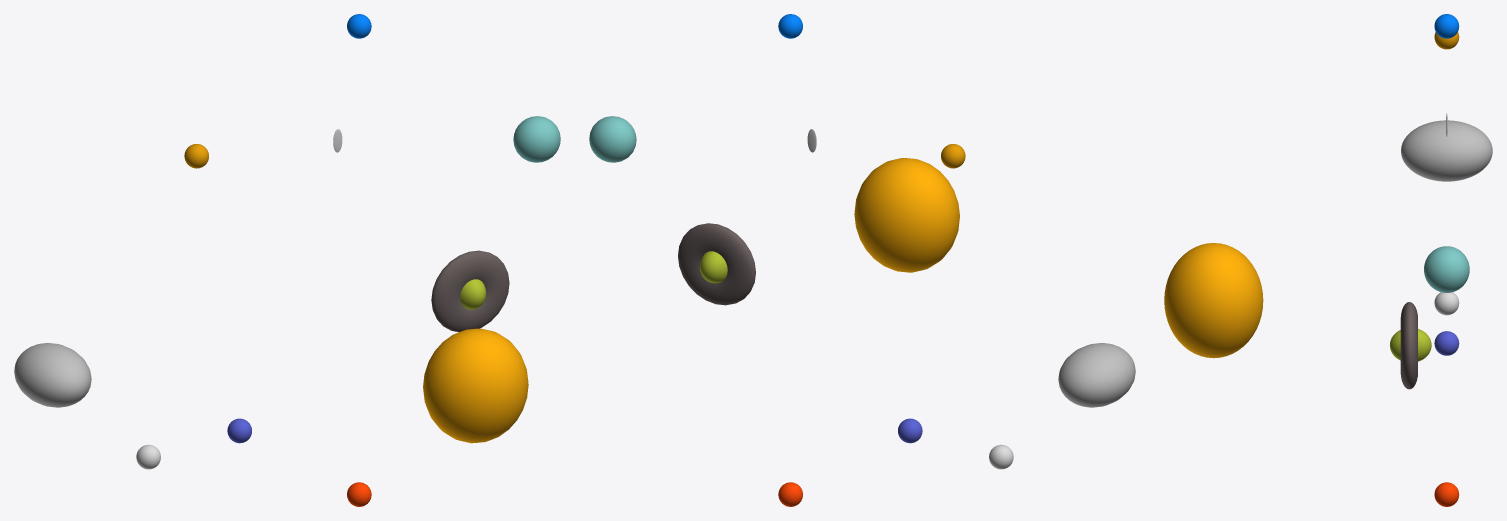
The model's file is solar-system.glb.
The picture shows the model from 3 angles, left to right: view 1: azimuth 30°, elevation 25°; view 2: azimuth 150°, elevation 25°; view 3: azimuth 270°, elevation 25°; orthographic projection.
Visible parts, largest first — view 1: Sphere1, Torus, Sphere7, Sphere8, Sphere; view 2: Sphere1, Torus, Sphere7, Sphere8, Sphere; view 3: Sphere1, Sphere7, Sphere8, Torus, Sphere, Sphere9, Sphere3, Sphere4, Sphere6.
Boxes of the visible parts, x1,y1,x2,y2 form: Sphere1: [423, 328, 528, 443]; Torus: [431, 250, 509, 332]; Sphere7: [14, 343, 91, 407]; Sphere8: [513, 116, 560, 162]; Sphere: [460, 279, 486, 309]; Sphere1: [854, 158, 959, 272]; Torus: [678, 223, 755, 305]; Sphere7: [1058, 343, 1135, 407]; Sphere8: [589, 116, 636, 162]; Sphere: [700, 251, 727, 283]; Sphere1: [1164, 243, 1263, 358]; Sphere7: [1401, 120, 1492, 181]; Sphere8: [1424, 246, 1469, 292]; Torus: [1400, 302, 1417, 389]; Sphere: [1390, 329, 1431, 361]; Sphere9: [1434, 14, 1459, 38]; Sphere3: [1434, 482, 1459, 506]; Sphere4: [1434, 331, 1459, 355]; Sphere6: [1434, 292, 1459, 315].
Bounding box in the file's own units: 25.02 × 21.88 × 13.27.
